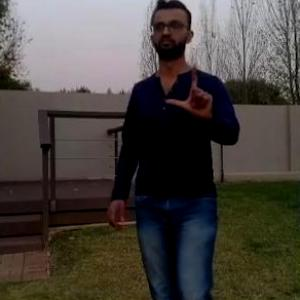land_hand: (163, 56, 216, 119)
